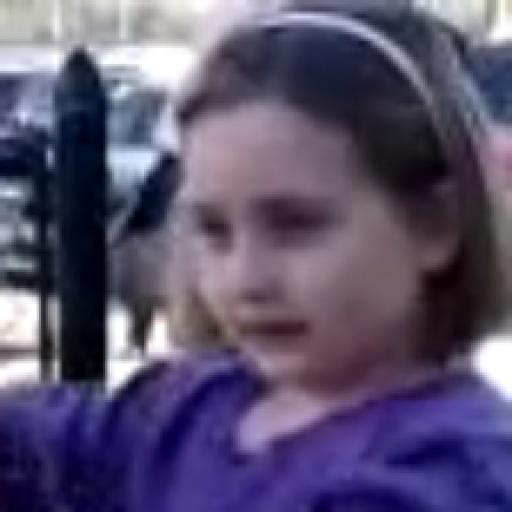Autism: (153, 23, 512, 512)
